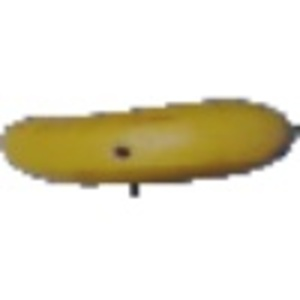banana: (2, 92, 298, 186)
